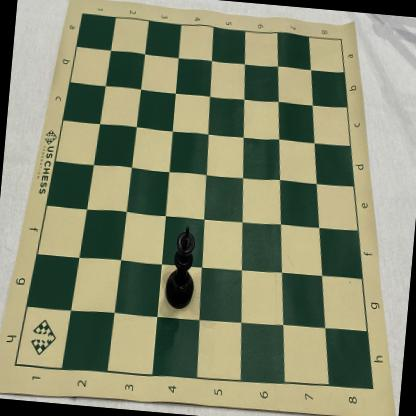king: (164, 224, 200, 310)
